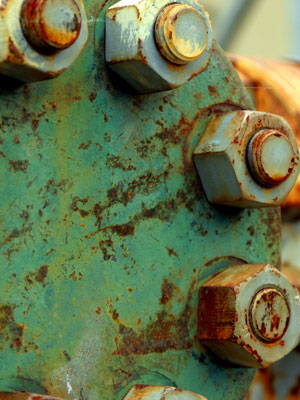bolt_b: (193, 104, 297, 210), (194, 263, 297, 369), (102, 3, 213, 94)
